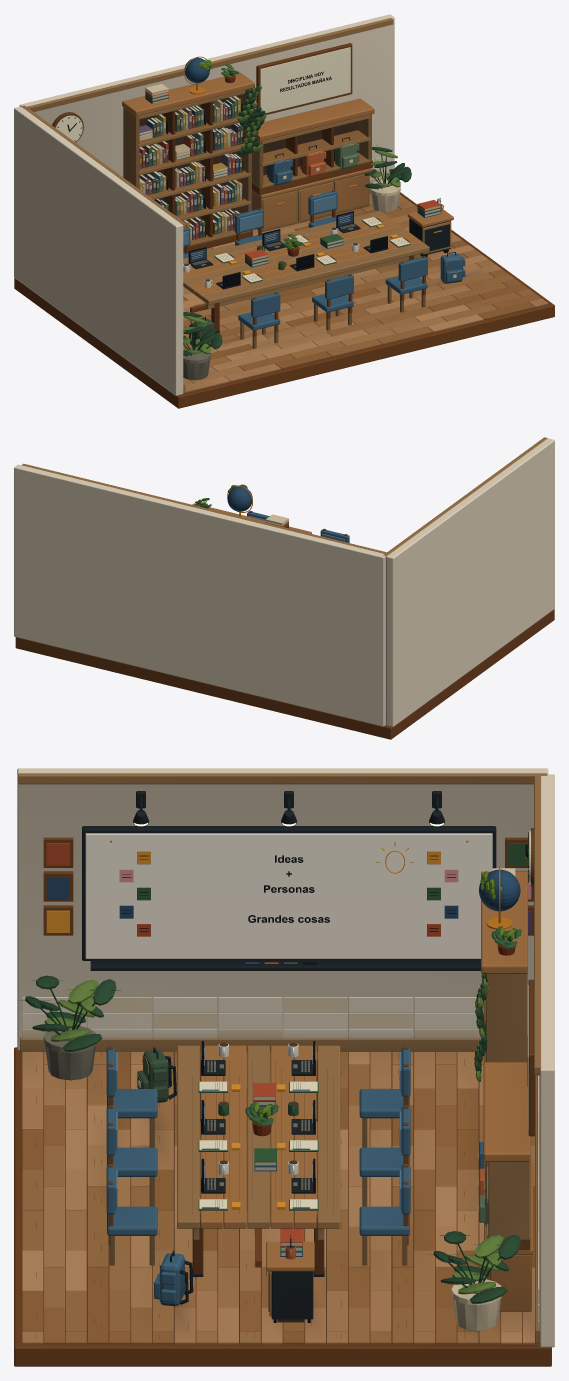
File: study-reduced.glb
3 views of the same model, one above another, from view 1: azimuth 30°, elevation 25°; view 2: azimuth 150°, elevation 25°; view 3: azimuth 270°, elevation 25° (orthographic). The views are drawn at different scales.
Parts seen in each view (by area): view 1: Shared environment v2; view 2: Shared environment v2; view 3: Shared environment v2.
Boxes of the visible parts, bbox=[...] form: Shared environment v2: bbox=[14, 14, 554, 408]; Shared environment v2: bbox=[14, 437, 554, 739]; Shared environment v2: bbox=[14, 768, 554, 1366].
Bounding box in the file's own units: 8.22 × 4.2 × 6.21.
